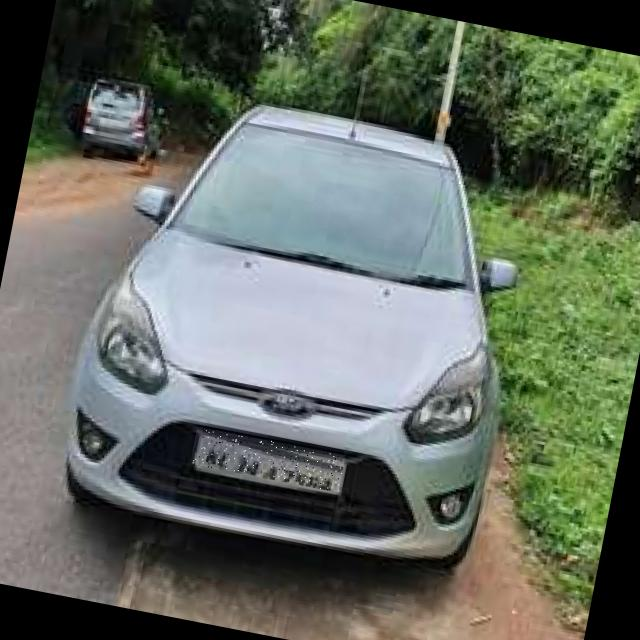Plate: (192, 428, 347, 494)
